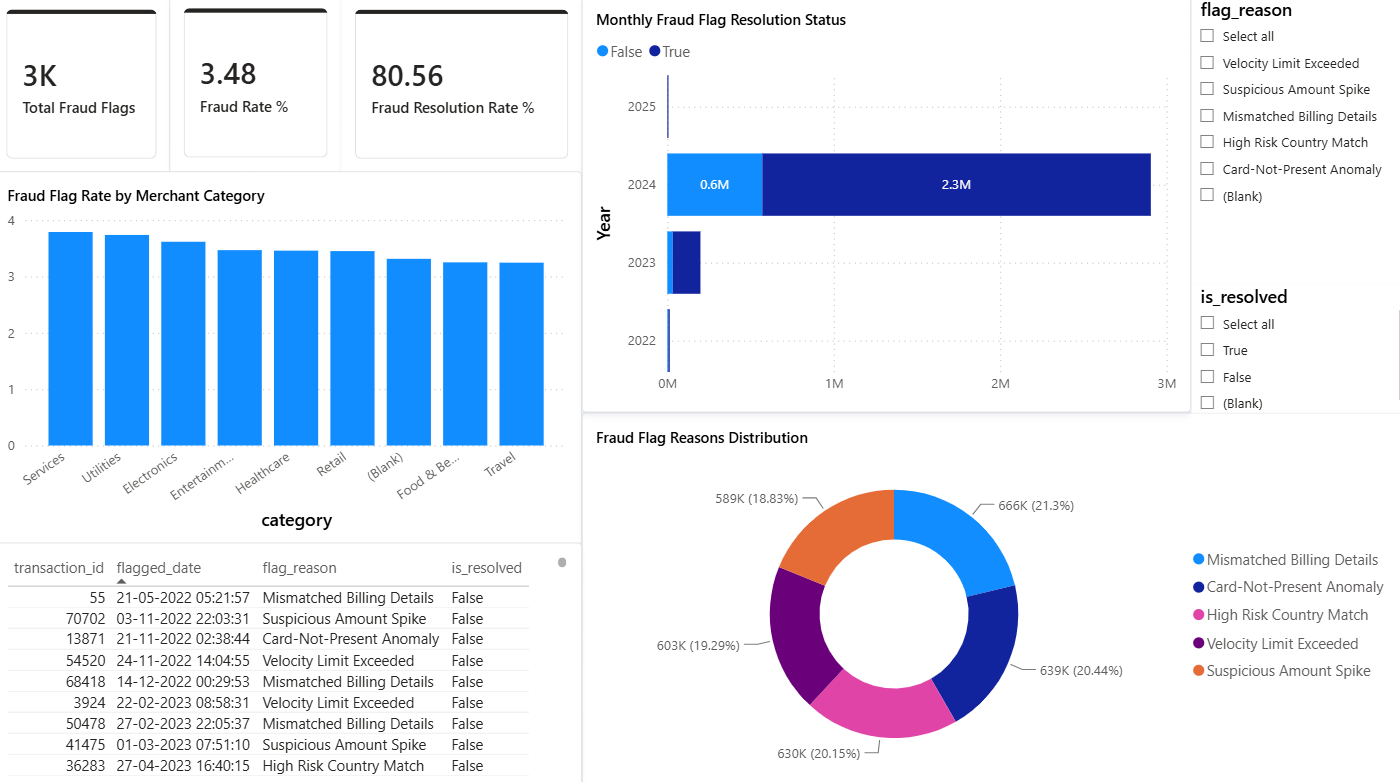

The dashboard page shown, as its layout file describes it:
{"tool":"powerbi","page":{"name":"Fraud & Risk","canvas":[1280,720],"ordinal":2},"visuals":[{"type":"cardVisual","fields":{"Data":["transactions.Total Fraud Flags"]},"box":[0,1.1,160.6,159.4],"z":0},{"type":"cardVisual","fields":{"Data":["transactions.Fraud Rate %"]},"box":[160.6,0,154.9,159.4],"z":1000},{"type":"cardVisual","fields":{"Data":["transactions.Fraud Resolution Rate %"]},"box":[315.5,1.1,217.1,159.4],"z":2000},{"type":"columnChart","title":"Fraud Flag Rate by Merchant Category","fields":{"Category":["merchants.category"],"Y":["transactions.Fraud Rate %"]},"box":[0,159.4,532.5,338.1],"z":3000},{"type":"donutChart","title":"Fraud Flag Reasons Distribution","fields":{"Category":["fraud_flags.flag_reason"],"Y":["Sum(fraud_flags.flag_id)"]},"box":[532.5,377.6,747.4,342.6],"z":4000},{"type":"barChart","title":"Monthly Fraud Flag Resolution Status","fields":{"Category":["fraud_flags.flagged_date.Variation.Date Hierarchy.Year","fraud_flags.flagged_date.Variation.Date Hierarchy.Quarter","fraud_flags.flagged_date.Variation.Date Hierarchy.Month","fraud_flags.flagged_date.Variation.Date Hierarchy.Day"],"Y":["Sum(fraud_flags.flag_id)"],"Series":["fraud_flags.is_resolved"]},"box":[532.6,0,551.2,377.9],"z":5000},{"type":"tableEx","fields":{"Values":["fraud_flags.transaction_id","fraud_flags.flagged_date","fraud_flags.flag_reason","fraud_flags.is_resolved"]},"box":[0,495.2,532.5,225],"z":6000},{"type":"slicer","fields":{"Values":["fraud_flags.flag_reason"]},"box":[1084.3,1.1,195.6,260.1],"z":7000},{"type":"slicer","fields":{"Values":["fraud_flags.is_resolved"]},"box":[1084.3,261.2,195.6,116.5],"z":8000}]}

Visuals, with their boxes in screenshot pixels (x1, y1, x2, y2), scaled from the page's 1280x720 canvas onto the 1400x782 screenshot:
cardVisual - transactions.Total Fraud Flags: 0 1 176 174
cardVisual - transactions.Fraud Rate %: 176 0 345 173
cardVisual - transactions.Fraud Resolution Rate %: 345 1 583 174
"Fraud Flag Rate by Merchant Category" columnChart: 0 173 582 540
"Fraud Flag Reasons Distribution" donutChart: 582 410 1399 781
"Monthly Fraud Flag Resolution Status" barChart: 583 0 1185 410
tableEx - fraud_flags.transaction_id x fraud_flags.flagged_date: 0 538 582 781
slicer - fraud_flags.flag_reason: 1186 1 1399 284
slicer - fraud_flags.is_resolved: 1186 284 1399 410
